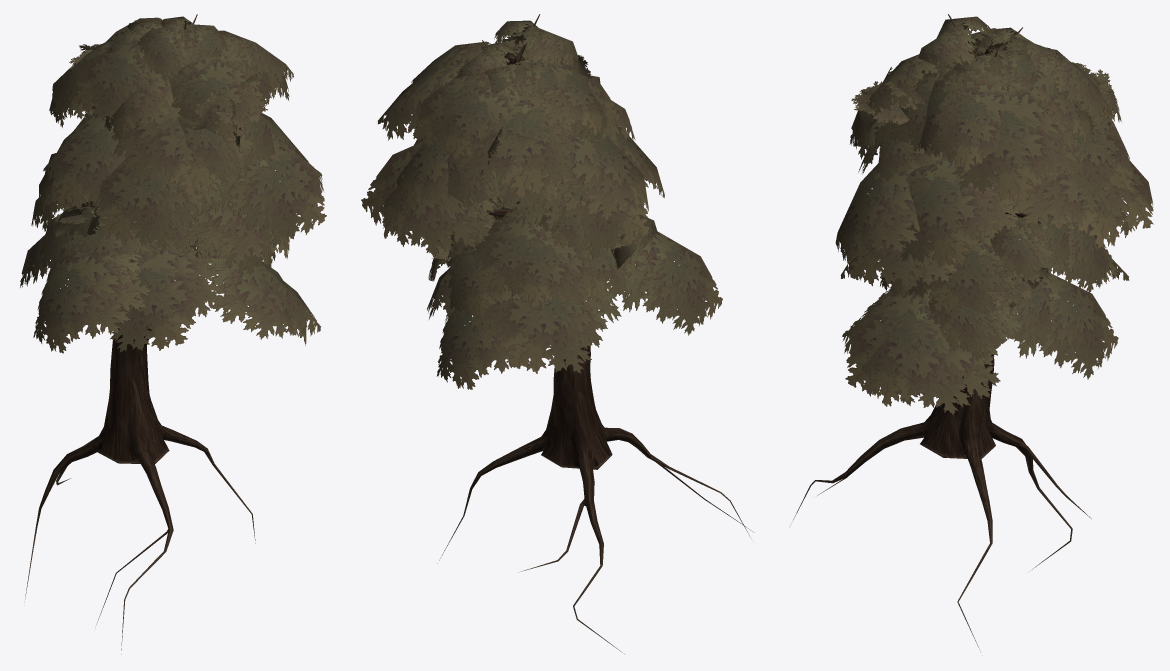
Rendered from Tree_02.fbx.
3 renders of one model, left to right at view 1: azimuth 30°, elevation 25°; view 2: azimuth 150°, elevation 25°; view 3: azimuth 270°, elevation 25°, orthographic. The views are drawn at different scales.
Parts seen in each view (by area): view 1: Tree_02_LOD0; view 2: Tree_02_LOD0; view 3: Tree_02_LOD0.
Part boxes in pixels (x1,y1,x2,y2): Tree_02_LOD0: [20, 14, 326, 654]; Tree_02_LOD0: [361, 14, 754, 652]; Tree_02_LOD0: [793, 14, 1153, 649].
Size of what is drawn, in the model's own units: 229 by 453 by 241.
